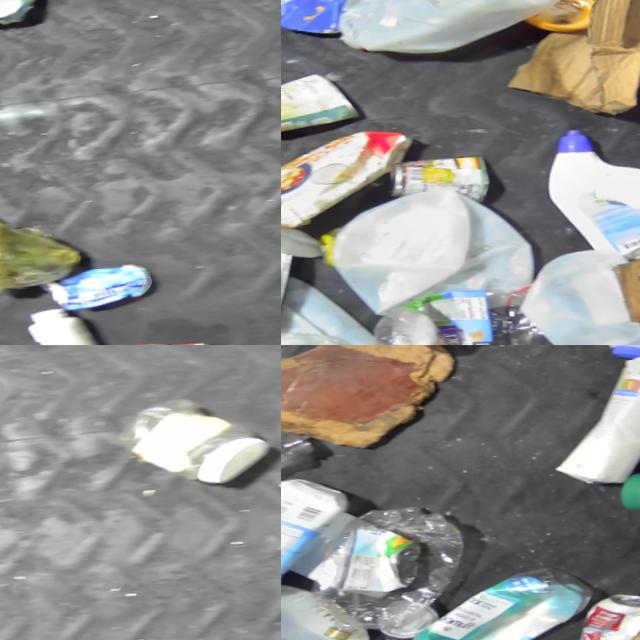can: (38, 251, 154, 314), (381, 145, 489, 204), (281, 64, 349, 137), (111, 323, 238, 345)
milk_jug: (311, 173, 523, 311), (321, 0, 554, 65), (522, 241, 640, 345), (281, 573, 370, 640)
plastic_bottle: (110, 389, 266, 492)
